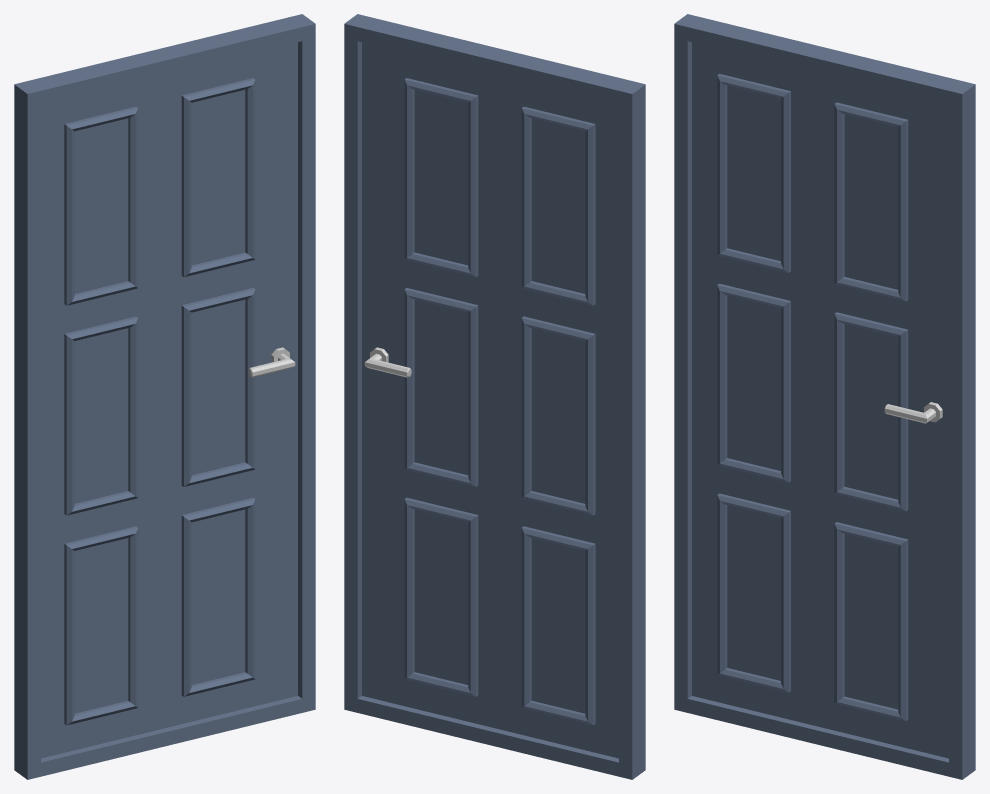
The model's file is Mesh_Door_B11.fbx.
3 renders of one model, left to right at view 1: azimuth 30°, elevation 25°; view 2: azimuth 150°, elevation 25°; view 3: azimuth 330°, elevation 25°, orthographic.
Parts seen in each view (by area): view 1: Mesh_Door_B11; view 2: Mesh_Door_B11; view 3: Mesh_Door_B11.
Boxes of the visible parts, x1=… form: Mesh_Door_B11: x1=14, y1=14, x2=315, y2=779; Mesh_Door_B11: x1=344, y1=14, x2=645, y2=779; Mesh_Door_B11: x1=674, y1=14, x2=975, y2=779.
Size of the model in its own units: 0.9 by 2.05 by 0.1524.
